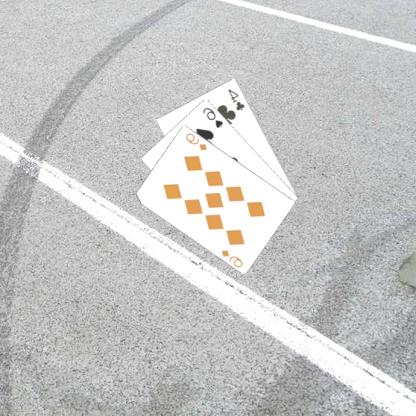4C: (227, 86, 248, 112)
6S: (202, 104, 226, 129)
9D: (184, 130, 210, 152), (221, 247, 246, 268)
